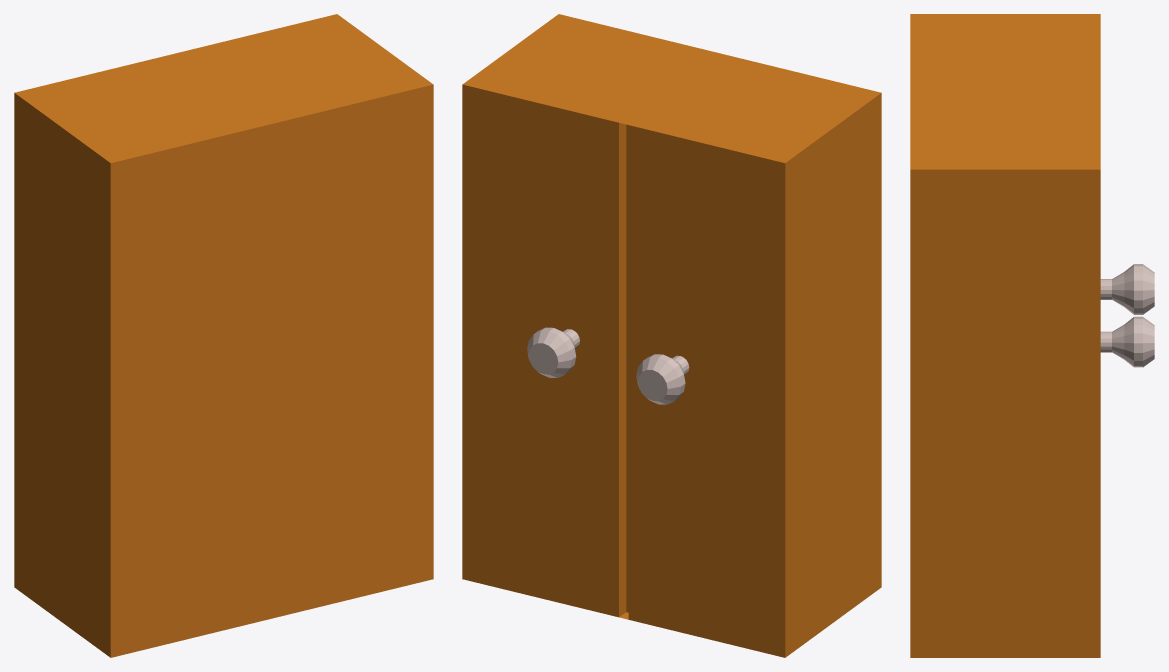
Rendered from Lemari Rumah aja.fbx.
3 renders of one model, left to right at view 1: azimuth 30°, elevation 25°; view 2: azimuth 150°, elevation 25°; view 3: azimuth 270°, elevation 25°, orthographic.
Visible parts, largest first — view 1: Plane.001; view 2: Plane.001; view 3: Plane.001.
Boxes of the visible parts, x1=… form: Plane.001: x1=14, y1=14, x2=433, y2=657; Plane.001: x1=462, y1=14, x2=881, y2=657; Plane.001: x1=910, y1=14, x2=1154, y2=657.
Bounding box in the file's own units: 387 × 566 × 257.
